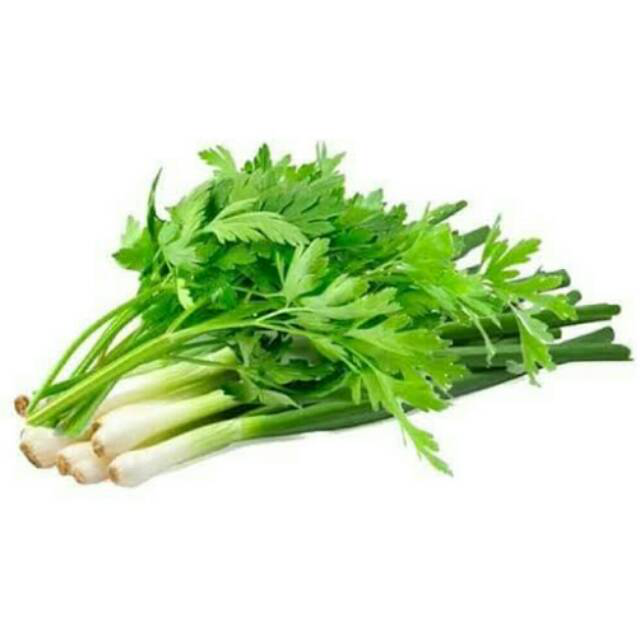Seledri: (26, 118, 640, 525)
